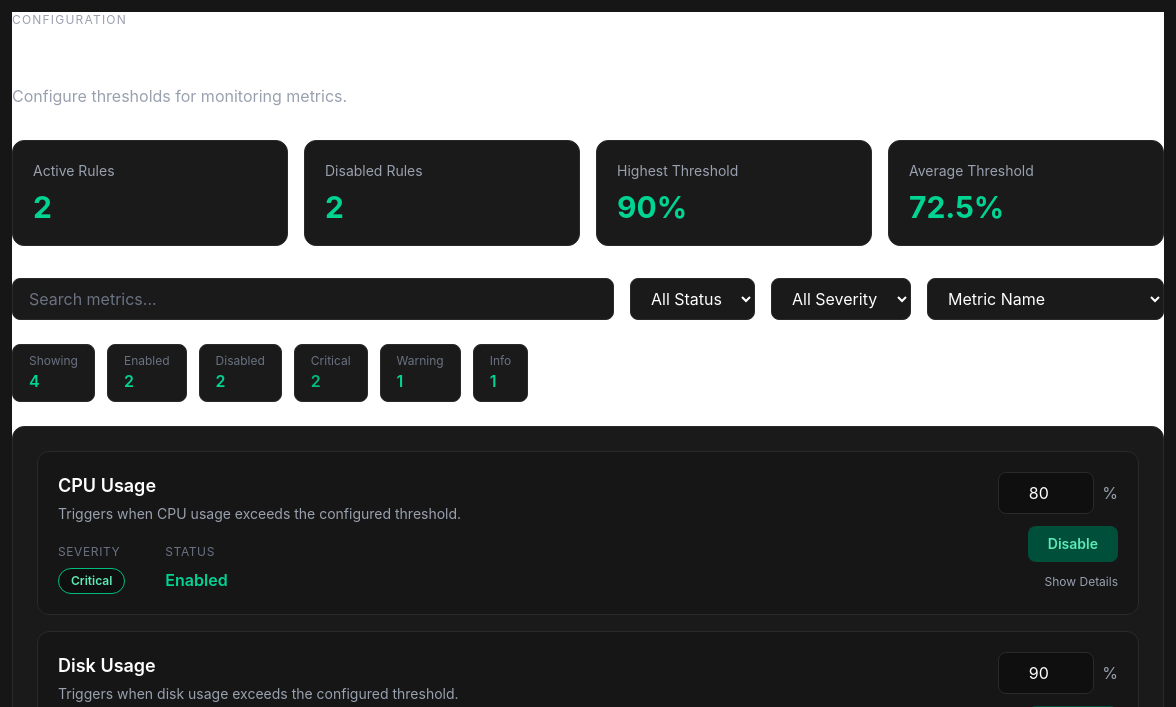
AlertRules page › expands and collapses rule details
This screenshot has width=1176, height=707.
Expected: the heading "CPU Usage" is shown, [58,475,156,496]
What coordinates should you click on to do the following:
click the button "Show Details"
I would click on:
 (1081, 582)
Its box is [1044,574,1118,590].
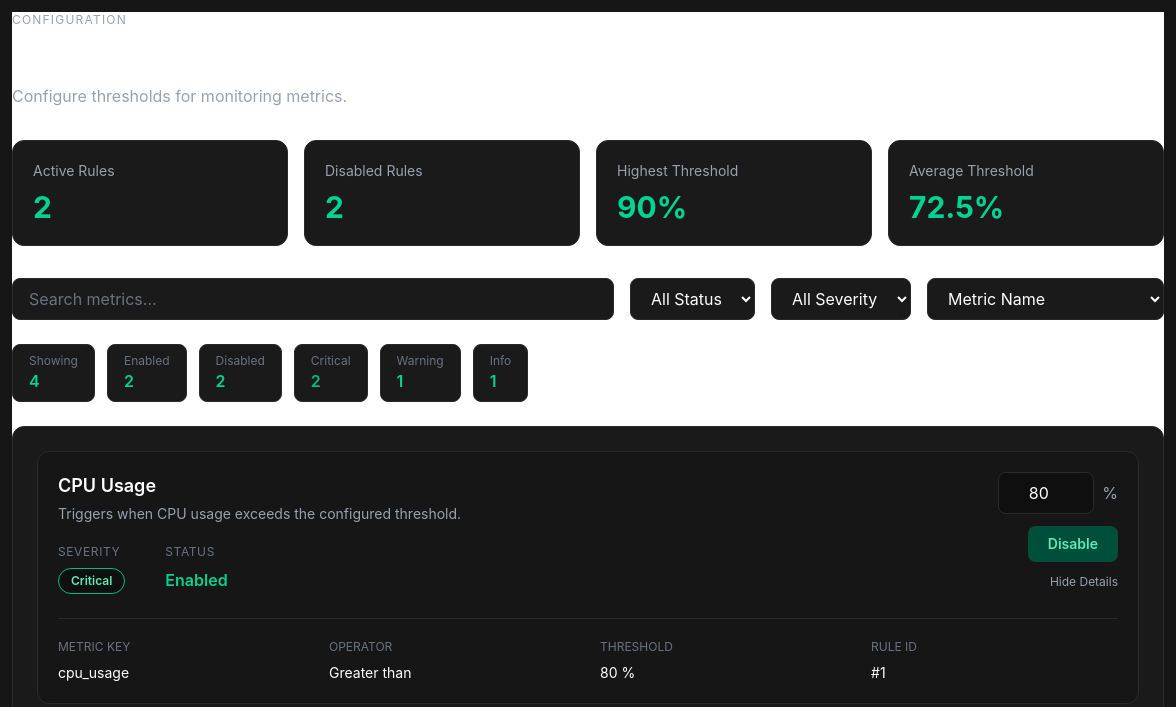
Expected: the text "Metric Key" is shown, [58,639,130,654]
Expected: the text "cpu_usage" is shown, [58,664,129,681]
Expected: the text "Greater than" is shown, [329,664,412,681]
What coordinates should you click on to do the following:
click the button "Hide Details"
I would click on:
 (1084, 582)
Its box is [1050,574,1118,590].
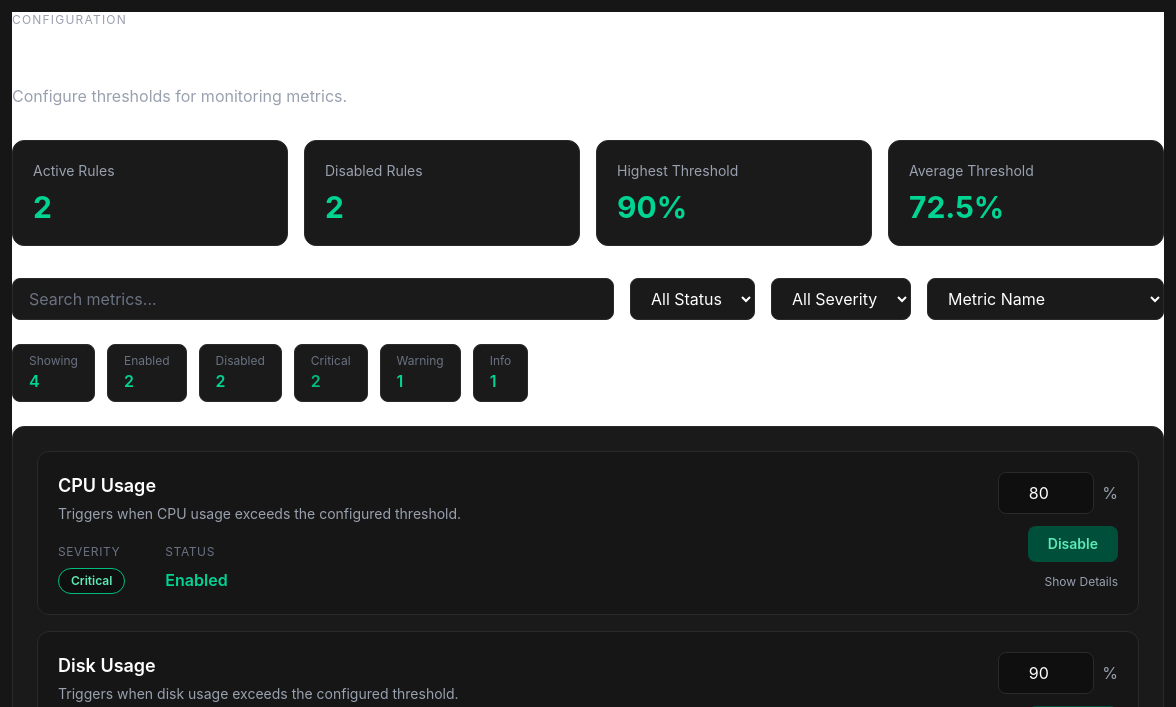
Expected: the text "Metric Key" is gone
